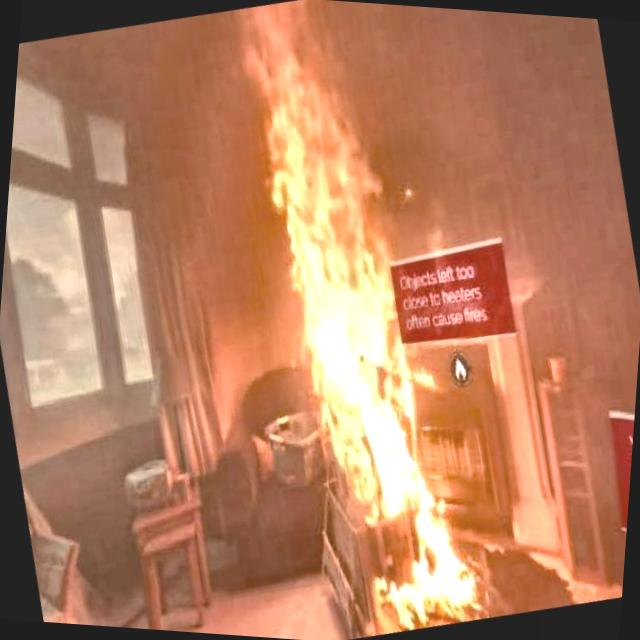fire: (166, 0, 503, 549)
